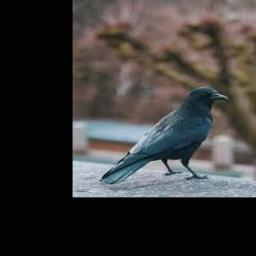Crow: (98, 86, 228, 184)
